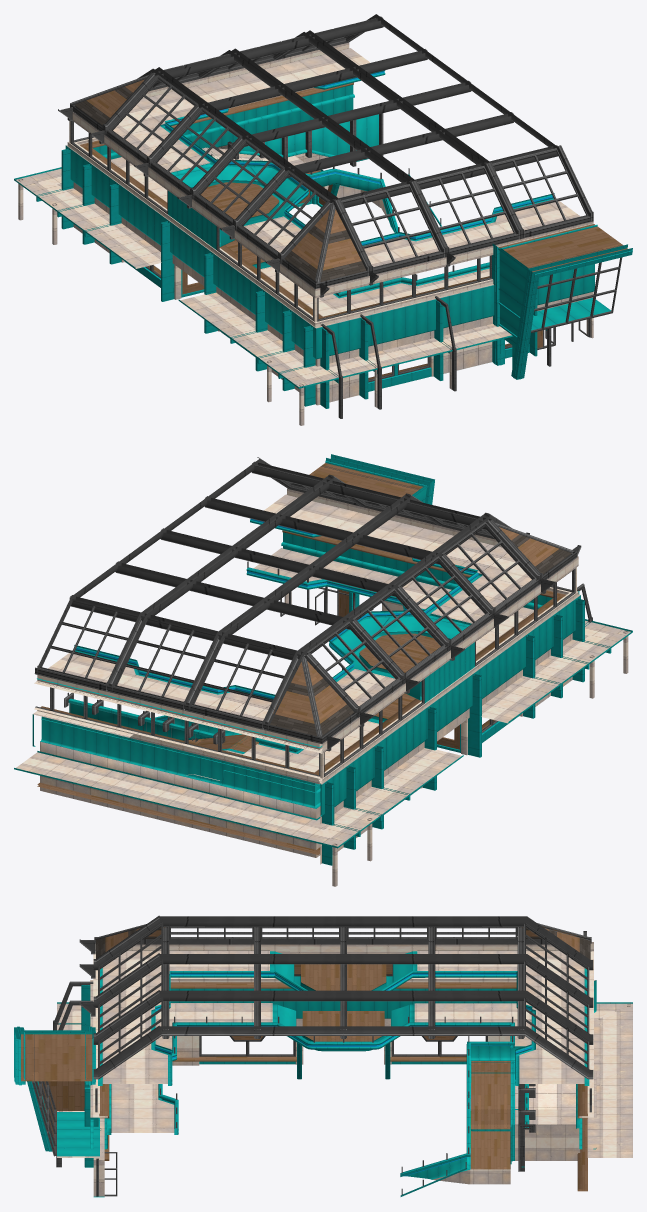
File: ScienceBuilding_MainHall.fbx
3 renders of one model, top to bottom at view 1: azimuth 30°, elevation 25°; view 2: azimuth 150°, elevation 25°; view 3: azimuth 270°, elevation 25°, orthographic. The views are drawn at different scales.
Visible parts, largest first — view 1: ScienceBuilding_MainHall; view 2: ScienceBuilding_MainHall; view 3: ScienceBuilding_MainHall.
Boxes of the visible parts, <box> form: ScienceBuilding_MainHall: <box>14,14,632,425</box>; ScienceBuilding_MainHall: <box>14,454,632,886</box>; ScienceBuilding_MainHall: <box>14,915,632,1197</box>.
Size of the model in its own units: 4470 by 2310 by 7568.
